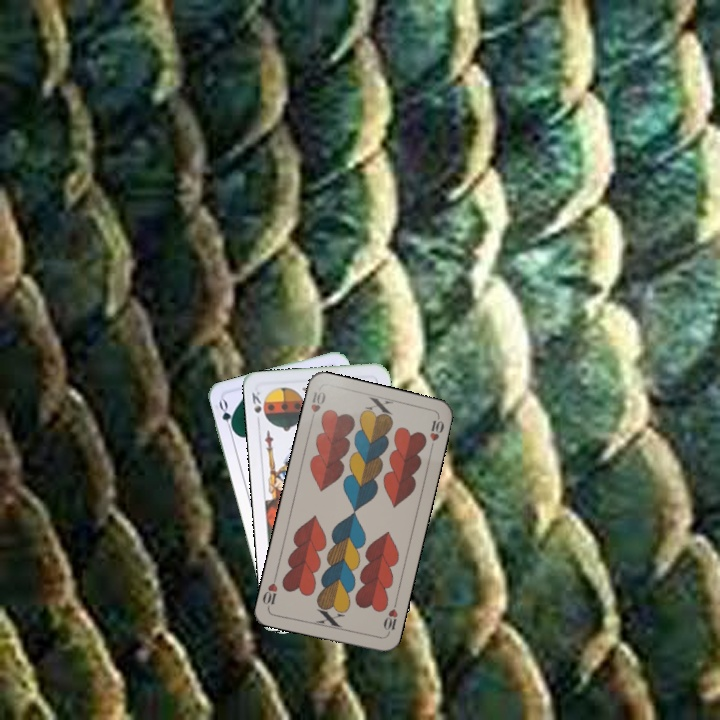GO: (215, 396, 238, 436)
H10: (379, 598, 400, 638), (306, 388, 328, 426)
SK: (248, 387, 265, 416)
